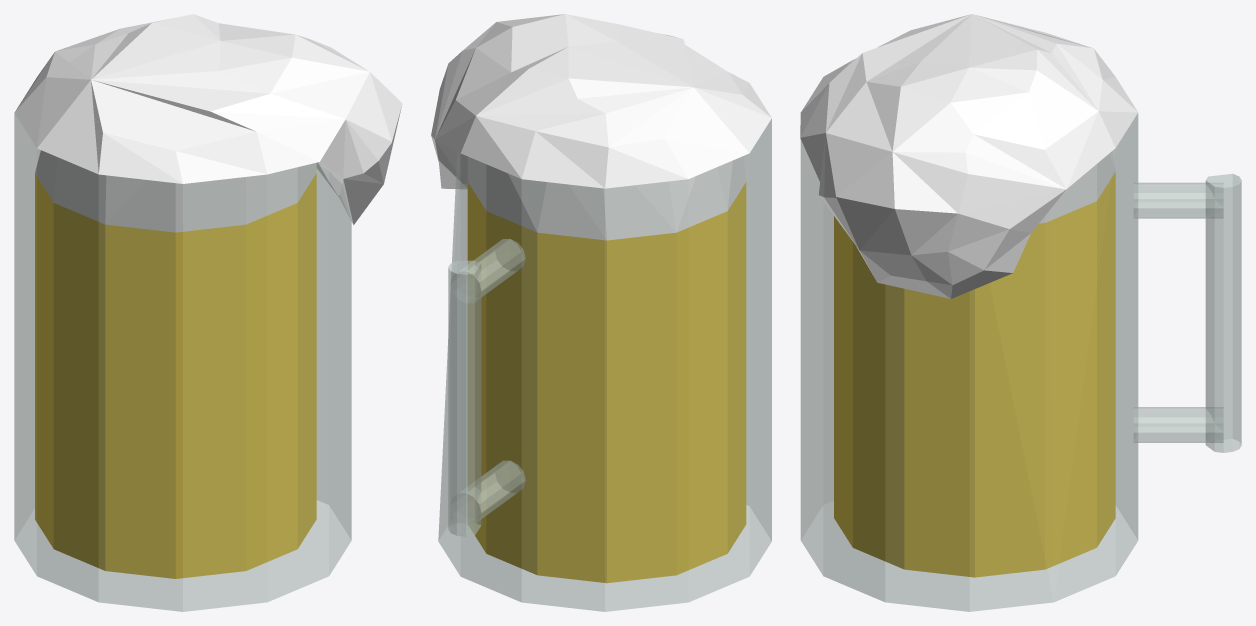
File: Men_accessory_Beer_500.fbx
3 renders of one model, left to right at view 1: azimuth 30°, elevation 25°; view 2: azimuth 150°, elevation 25°; view 3: azimuth 270°, elevation 25°, orthographic.
Parts seen in each view (by area): view 1: group1089337075, group1947001856, group1704141383, group2121909404; view 2: group1089337075, group1947001856, group1704141383, group2121909404, group567367669, group795524786, group1411271374; view 3: group1089337075, group1947001856, group1704141383, group567367669, group1411271374, group795524786, group2121909404.
Part boxes in pixels (box(x1,y1,x2,y2)): group1089337075: box(14, 113, 351, 611); group1947001856: box(35, 173, 316, 578); group1704141383: box(14, 14, 402, 224); group2121909404: box(35, 150, 316, 232); group1089337075: box(438, 119, 771, 611); group1947001856: box(467, 182, 746, 583); group1704141383: box(431, 14, 771, 188); group2121909404: box(467, 156, 746, 240); group567367669: box(448, 260, 481, 536); group795524786: box(451, 460, 525, 524); group1411271374: box(451, 239, 525, 303); group1089337075: box(800, 113, 1138, 611); group1947001856: box(834, 172, 1115, 577); group1704141383: box(800, 14, 1137, 298); group567367669: box(1205, 173, 1241, 452); group1411271374: box(1133, 182, 1223, 218); group795524786: box(1133, 407, 1223, 442); group2121909404: box(1039, 151, 1115, 223).
Size of the model in its own units: 0.1686 by 0.2415 by 0.1963.
